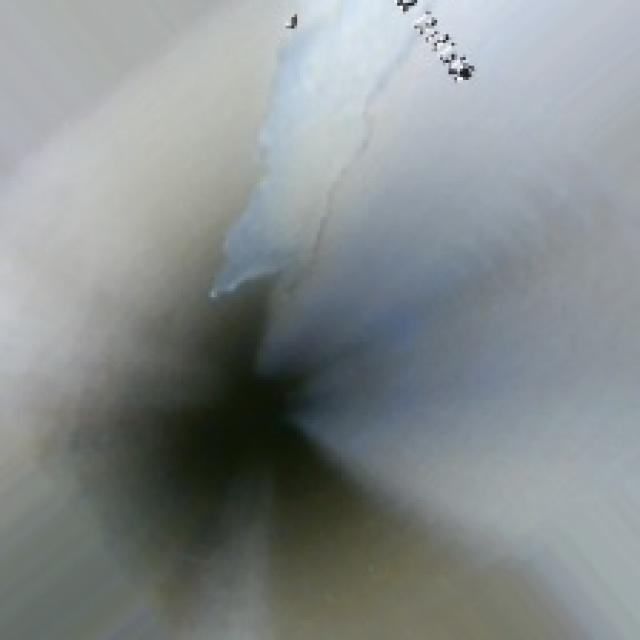pipe_surface_damage: (229, 37, 397, 323)
